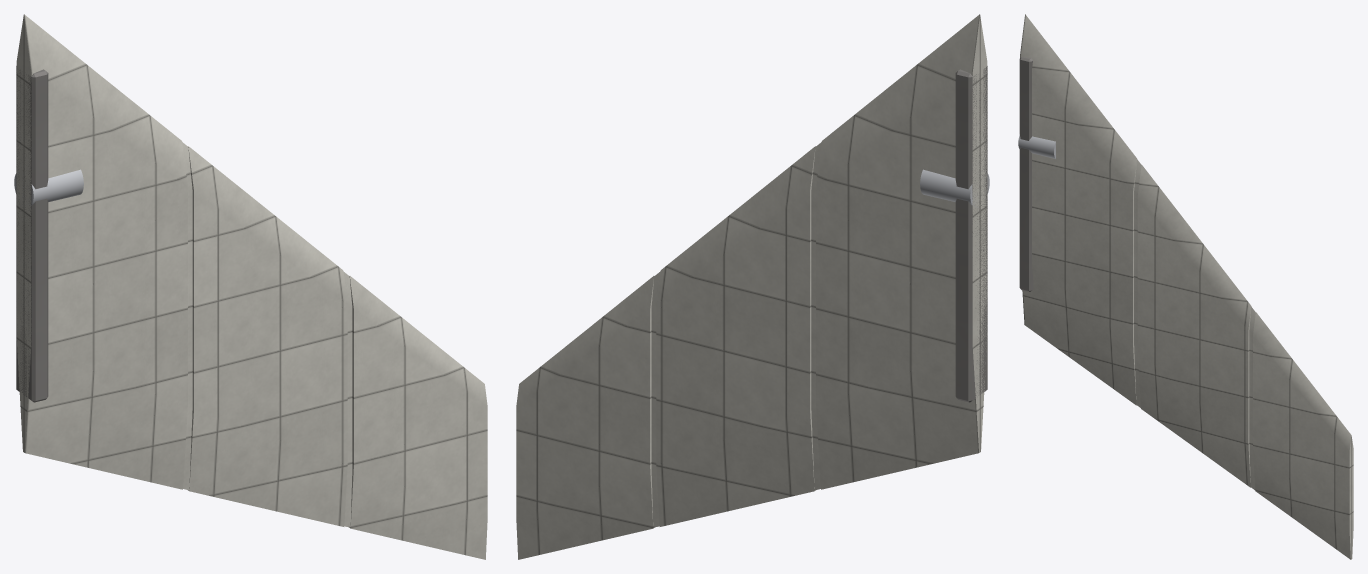
File: ax_aero_22_tlc_canard.glb
3 views of the same model, side by side, from view 1: azimuth 30°, elevation 25°; view 2: azimuth 150°, elevation 25°; view 3: azimuth 330°, elevation 25° (orthographic). The views are drawn at different scales.
Parts seen in each view (by area): view 1: wing_top, root_flange, wing_underside, pivot_shaft; view 2: wing_underside, root_flange, wing_top, pivot_shaft; view 3: wing_top, root_flange, pivot_shaft.
Part boxes in pixels (x1,y1,x2,y2): wing_top: (24, 14, 487, 559); root_flange: (16, 66, 48, 402); wing_underside: (16, 15, 23, 452); pivot_shaft: (14, 169, 83, 207); wing_underside: (516, 14, 979, 559); root_flange: (955, 66, 987, 402); wing_top: (980, 15, 987, 452); pivot_shaft: (920, 169, 989, 207); wing_top: (1020, 14, 1351, 559); root_flange: (1019, 57, 1033, 291); pivot_shaft: (1018, 135, 1055, 158).
Size of the model in its own units: 1.1 by 1.5 by 0.08.
3 materials, 3 textured.
